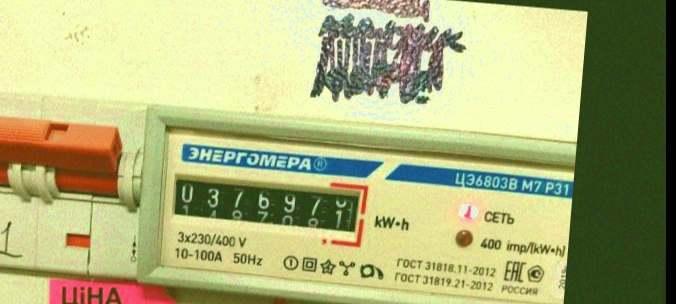0: (179, 181, 196, 203)
1: (333, 207, 346, 229)
3: (205, 185, 221, 209)
6: (258, 187, 272, 209)
7: (231, 184, 246, 209), (308, 192, 323, 216)
9: (282, 190, 297, 213)
screen: (164, 166, 372, 250)
